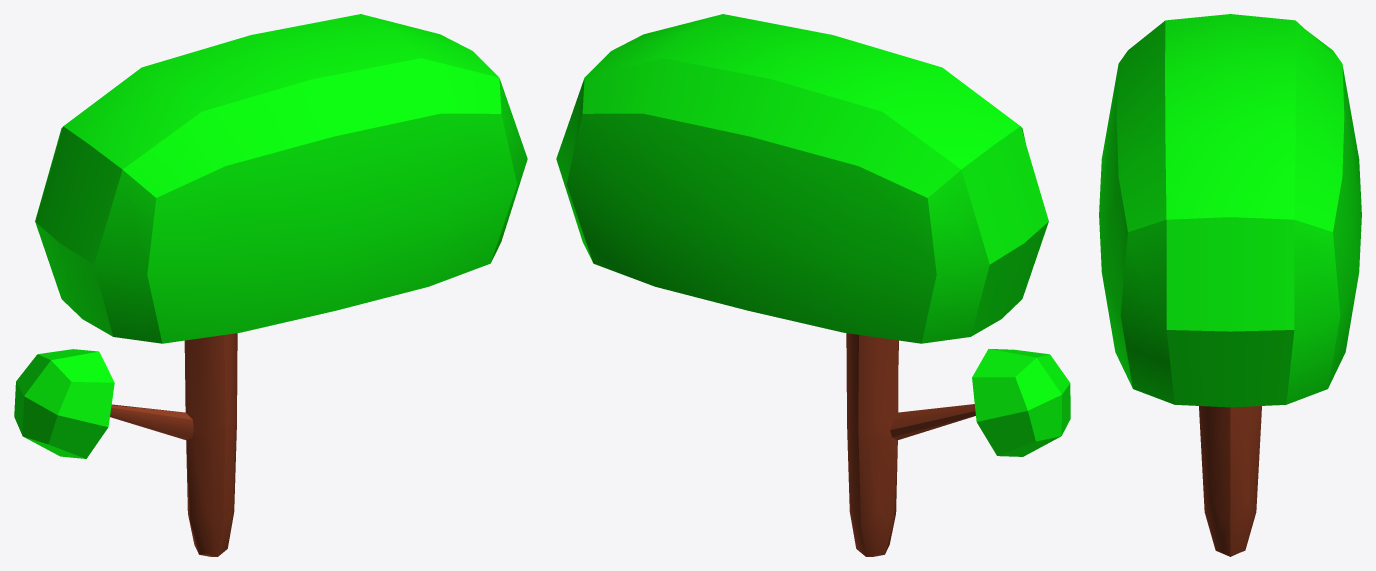
File: hotdog_tree.fbx
3 views of the same model, side by side, from view 1: azimuth 30°, elevation 25°; view 2: azimuth 150°, elevation 25°; view 3: azimuth 270°, elevation 25° (orthographic). The views are drawn at different scales.
Parts seen in each view (by area): view 1: hotdog_tree; view 2: hotdog_tree; view 3: hotdog_tree.
Boxes of the visible parts, x1=… form: hotdog_tree: x1=14, y1=14, x2=527, y2=556; hotdog_tree: x1=556, y1=14, x2=1070, y2=556; hotdog_tree: x1=1099, y1=14, x2=1361, y2=556.
Bounding box in the file's own units: 804 × 781 × 353.
